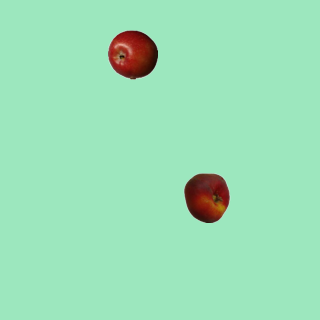Apple Braeburn: (107, 29, 157, 79)
Nectarine Flat: (181, 172, 231, 222)
